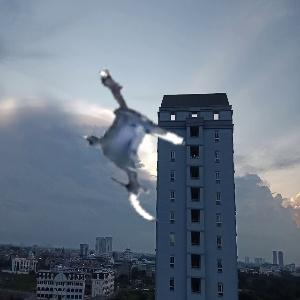drone: (65, 79, 209, 223)
